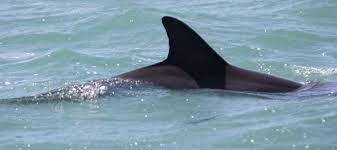fin: (97, 10, 315, 112)
